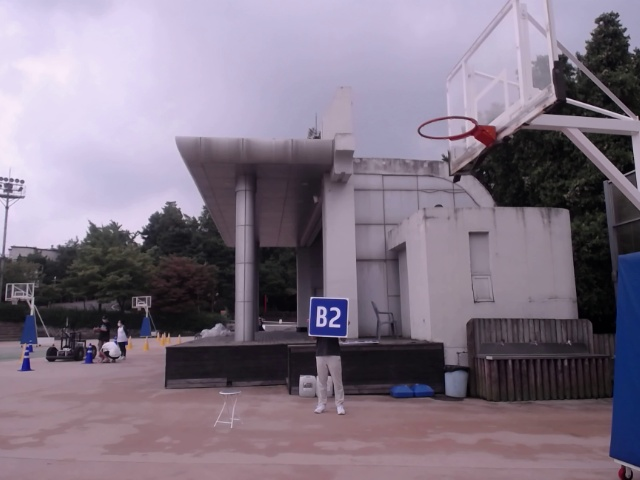delivery_b2: (309, 295, 349, 339)
